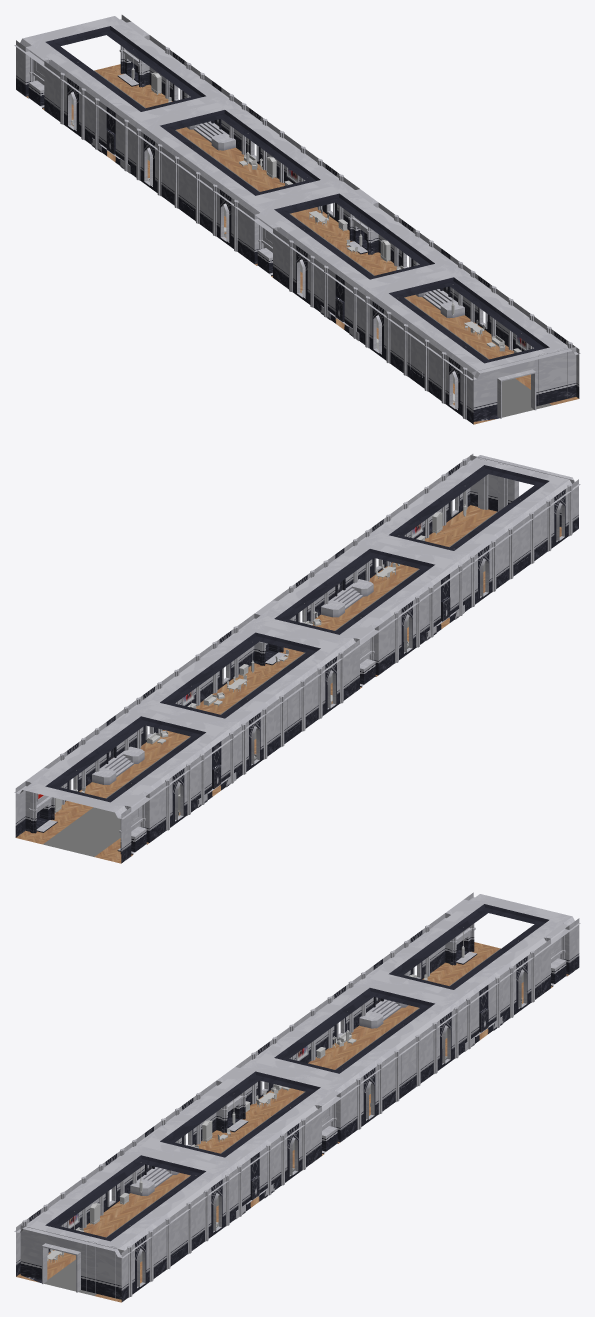
Rendered from AdrienMansion_LivingRoomNew.fbx.
The picture shows the model from 3 angles, top to bottom: view 1: azimuth 30°, elevation 25°; view 2: azimuth 150°, elevation 25°; view 3: azimuth 330°, elevation 25°; orthographic projection.
Parts seen in each view (by area): view 1: AdrienMansion_livingRoom; view 2: AdrienMansion_livingRoom; view 3: AdrienMansion_livingRoom.
Boxes of the visible parts, left/top/right/bottom form: AdrienMansion_livingRoom: left=14, top=15, right=580, bottom=424; AdrienMansion_livingRoom: left=14, top=454, right=580, bottom=863; AdrienMansion_livingRoom: left=14, top=892, right=580, bottom=1302.
Size of the model in its own units: 8342 by 3682 by 60081.
